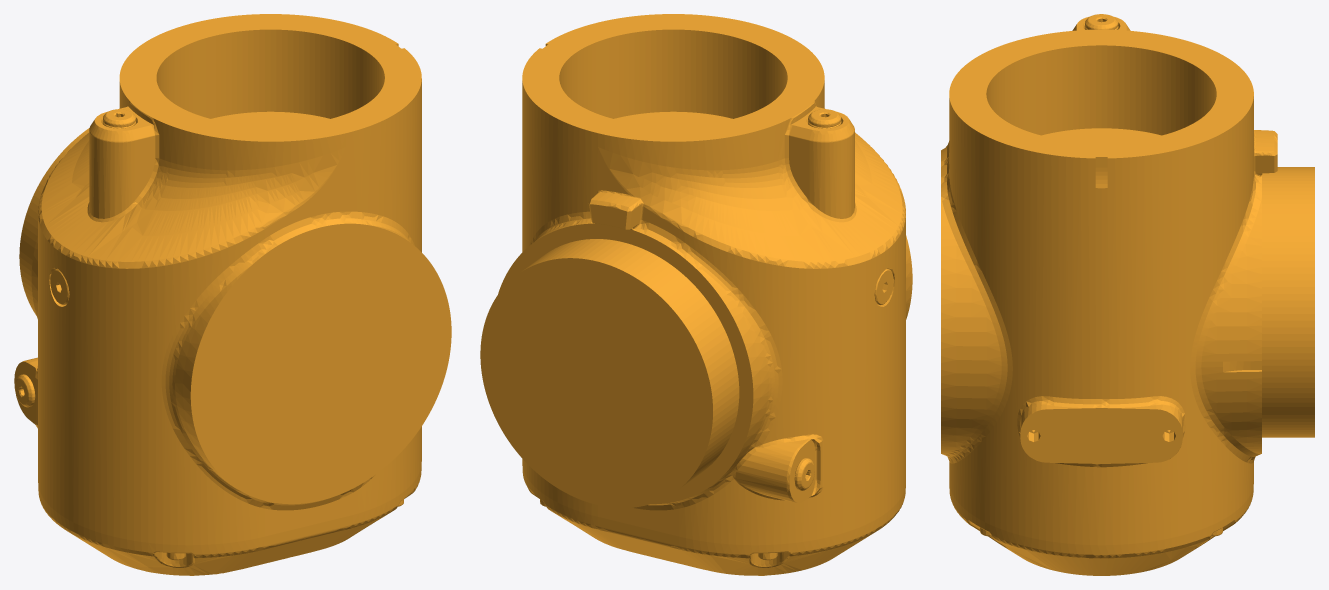
The model's file is ABBIRB1100Link3.dae.
3 renders of one model, left to right at view 1: azimuth 30°, elevation 25°; view 2: azimuth 150°, elevation 25°; view 3: azimuth 270°, elevation 25°, orthographic.
Parts seen in each view (by area): view 1: irb1100Link3; view 2: irb1100Link3; view 3: irb1100Link3.
Part boxes in pixels (x1=…): irb1100Link3: x1=14, y1=14, x2=451, y2=575; irb1100Link3: x1=480, y1=14, x2=912, y2=575; irb1100Link3: x1=941, y1=14, x2=1314, y2=575.
Size of the model in its own units: 0.12 by 0.1104 by 0.1447.
